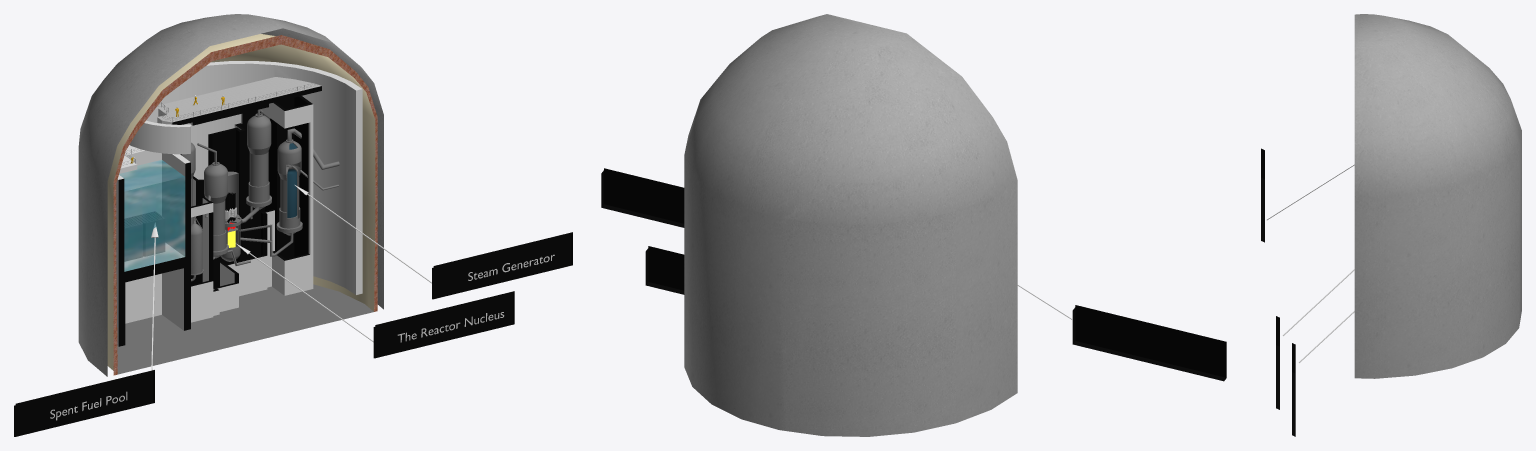
Rendered from reactor.glb.
3 views of the same model, side by side, from view 1: azimuth 30°, elevation 25°; view 2: azimuth 150°, elevation 25°; view 3: azimuth 270°, elevation 25° (orthographic). The views are drawn at different scales.
Visible parts, largest first — view 1: Object_2, Object_6, Object_7, Object_17, Object_4, Object_12, Object_15, Plane.002, Plane.001, Plane.007, Object_8, Object_9 (+5 smaller); view 2: Object_6, Plane.002, Plane.007, Plane.001; view 3: Object_6, Plane.002, Plane.001, Plane.007.
Part boxes in pixels (box(x1,y1,x2,y2)): Object_2: box(116, 61, 362, 346); Object_6: box(78, 14, 383, 376); Object_7: box(118, 86, 321, 346); Object_17: box(117, 195, 373, 374); Object_4: box(107, 34, 375, 370); Object_12: box(119, 160, 185, 271); Object_15: box(123, 83, 315, 258); Plane.002: box(14, 370, 154, 436); Plane.001: box(373, 291, 514, 358); Plane.007: box(432, 232, 572, 299); Object_8: box(119, 117, 184, 271); Object_9: box(113, 35, 377, 375); Object_6: box(684, 14, 1017, 436); Plane.002: box(1072, 305, 1226, 381); Plane.007: box(601, 168, 684, 227); Plane.001: box(645, 246, 684, 294); Object_6: box(1354, 14, 1521, 378); Plane.002: box(1261, 148, 1264, 242); Plane.001: box(1292, 343, 1295, 436); Plane.007: box(1276, 316, 1279, 409).
Bounding box in the file's own units: 1.81 × 0.9812 × 0.7932.
Materials: 24 (4 with a texture image).
